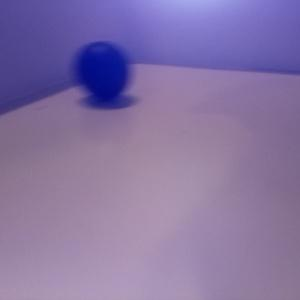dead_ball: (73, 41, 129, 100)
